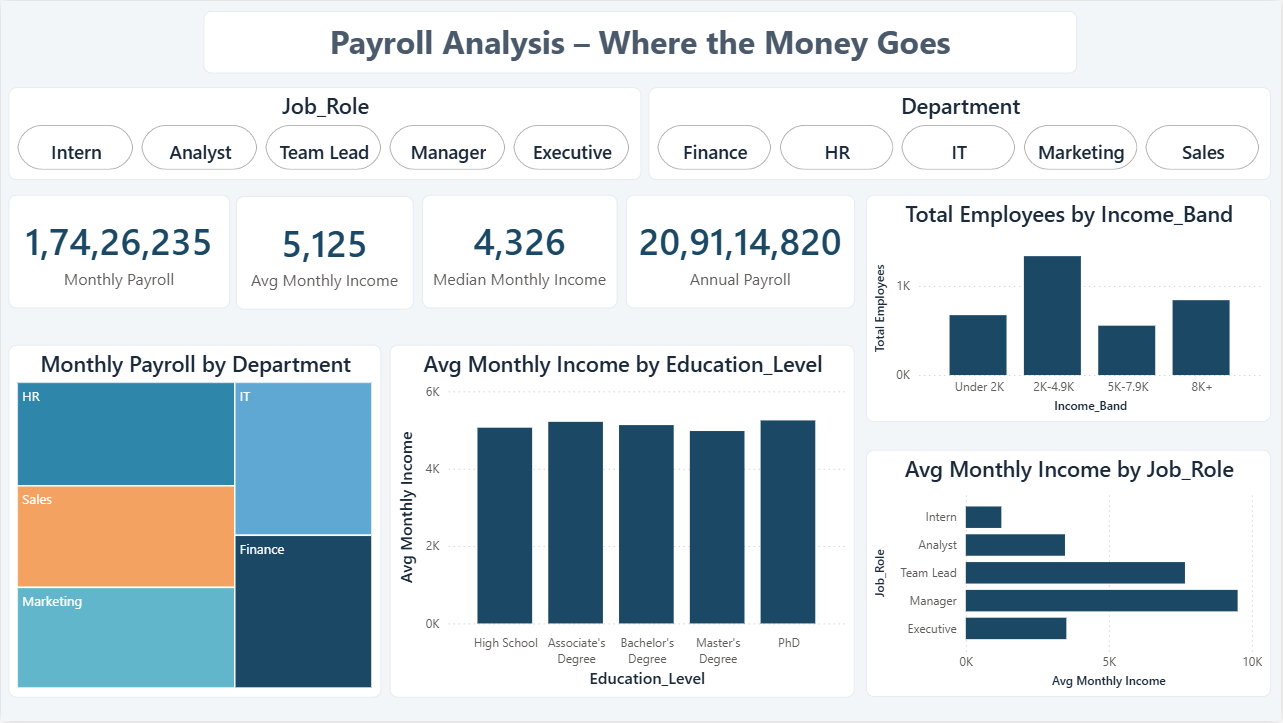

The dashboard page shown, as its layout file describes it:
{"tool":"powerbi","page":{"name":"Payroll Analysis","canvas":[1280,720],"ordinal":2},"visuals":[{"type":"textbox","box":[202.5,10,873.8,62.5],"z":0},{"type":"advancedSlicerVisual","fields":{"Values":["Dim_JobRole.Job_Role"]},"box":[7.5,86.2,632.5,92.5],"z":1000},{"type":"advancedSlicerVisual","fields":{"Values":["Dim_Department.Department"]},"box":[647.5,86.2,622.5,92.5],"z":2000},{"type":"card","fields":{"Values":["Fact_Employee.Monthly Payroll"]},"box":[7.5,193.8,221.2,113.8],"z":3000},{"type":"card","fields":{"Values":["Fact_Employee.Annual Payroll"]},"box":[625,193.8,228.8,113.8],"z":4000},{"type":"card","fields":{"Values":["Fact_Employee.Avg Monthly Income"]},"box":[235,195,177.5,113.8],"z":5000},{"type":"card","fields":{"Values":["Fact_Employee.Median Monthly Income"]},"box":[421.2,193.8,195,113.8],"z":6000},{"type":"clusteredBarChart","fields":{"Category":["Dim_JobRole.Job_Role"],"Y":["Fact_Employee.Avg Monthly Income"]},"box":[865,448.8,405,247.5],"z":7000},{"type":"treemap","fields":{"Group":["Dim_Department.Department"],"Values":["Fact_Employee.Monthly Payroll"]},"box":[7.5,343.8,372.5,352.5],"z":8000},{"type":"clusteredColumnChart","fields":{"Category":["Fact_Employee.Income_Band"],"Y":["Fact_Employee.Total Employees"]},"box":[865,193.8,405,227.5],"z":9000},{"type":"clusteredColumnChart","fields":{"Category":["Dim_Education.Education_Level"],"Y":["Fact_Employee.Avg Monthly Income"]},"box":[388.8,343.8,465,352.5],"z":10000}]}

Visuals, with their boxes in screenshot pixels (x1, y1, x2, y2), scaled from the page's 1280x720 canvas onto the 1283x723 screenshot:
textbox: [left=203, top=10, right=1079, bottom=73]
advancedSlicerVisual - Dim_JobRole.Job_Role: [left=8, top=87, right=642, bottom=179]
advancedSlicerVisual - Dim_Department.Department: [left=649, top=87, right=1273, bottom=179]
card - Fact_Employee.Monthly Payroll: [left=8, top=195, right=229, bottom=309]
card - Fact_Employee.Annual Payroll: [left=626, top=195, right=856, bottom=309]
card - Fact_Employee.Avg Monthly Income: [left=236, top=196, right=413, bottom=310]
card - Fact_Employee.Median Monthly Income: [left=422, top=195, right=618, bottom=309]
clusteredBarChart - Dim_JobRole.Job_Role x Fact_Employee.Avg Monthly Income: [left=867, top=451, right=1273, bottom=699]
treemap - Dim_Department.Department x Fact_Employee.Monthly Payroll: [left=8, top=345, right=381, bottom=699]
clusteredColumnChart - Fact_Employee.Income_Band x Fact_Employee.Total Employees: [left=867, top=195, right=1273, bottom=423]
clusteredColumnChart - Dim_Education.Education_Level x Fact_Employee.Avg Monthly Income: [left=390, top=345, right=856, bottom=699]
